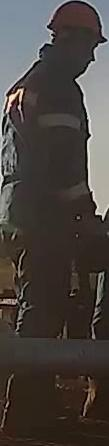gloves: (73, 212, 108, 275)
helmet: (44, 0, 109, 46)
vest: (2, 66, 88, 252)
